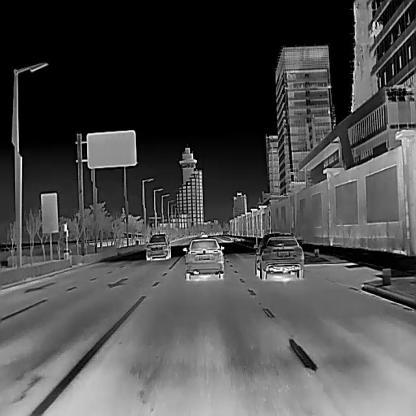car: (254, 232, 304, 279), (182, 238, 224, 280), (146, 233, 170, 260), (200, 232, 208, 238)
